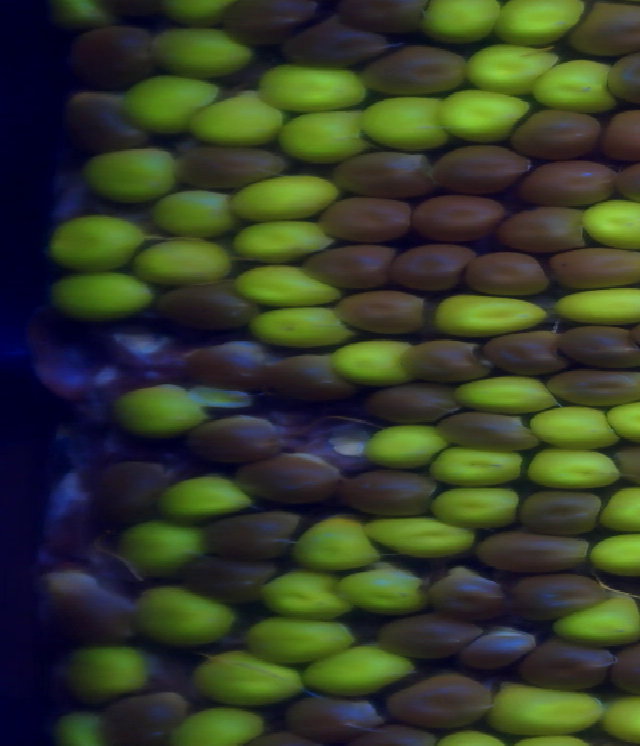fluorescent: (124, 585, 236, 646), (191, 647, 303, 704), (252, 61, 381, 110), (119, 74, 219, 136), (302, 639, 414, 694), (43, 216, 149, 274), (532, 53, 630, 115), (490, 681, 605, 733), (188, 85, 290, 143), (76, 151, 185, 204), (61, 646, 159, 704), (361, 513, 481, 560), (530, 400, 632, 454), (358, 94, 450, 152), (246, 617, 356, 664), (148, 27, 255, 75), (231, 173, 342, 219), (291, 521, 385, 574), (430, 294, 551, 335), (428, 439, 532, 486), (466, 43, 560, 95), (49, 275, 160, 319), (429, 482, 526, 532), (489, 1, 589, 49), (239, 306, 358, 346), (339, 566, 434, 616), (115, 383, 210, 433), (439, 91, 532, 142), (524, 445, 626, 491), (261, 567, 350, 619), (234, 264, 348, 304), (281, 110, 367, 163), (158, 474, 256, 519), (331, 341, 424, 387), (131, 240, 235, 281), (411, 1, 504, 46), (124, 522, 206, 572), (364, 423, 447, 471), (453, 376, 556, 414), (164, 709, 268, 746), (555, 602, 640, 646), (153, 194, 239, 237), (551, 283, 640, 324), (232, 221, 334, 253), (46, 709, 112, 746), (592, 531, 640, 576), (44, 1, 116, 31), (601, 691, 640, 742), (159, 1, 234, 27), (596, 487, 640, 531), (608, 399, 640, 446)
nonfluorescent: (34, 572, 150, 656), (385, 669, 498, 731), (62, 91, 158, 154), (224, 453, 348, 501), (154, 281, 267, 333), (510, 103, 613, 160), (284, 15, 393, 68), (317, 190, 418, 246), (93, 691, 192, 746), (507, 573, 613, 623), (429, 146, 528, 199), (69, 27, 156, 86), (401, 193, 503, 243), (523, 157, 623, 208), (263, 353, 360, 405), (478, 529, 592, 573), (333, 288, 433, 338), (363, 48, 467, 96), (427, 564, 516, 619), (290, 692, 387, 742), (301, 240, 399, 289), (338, 468, 440, 515), (96, 460, 166, 528), (203, 512, 304, 559), (523, 637, 609, 692), (184, 335, 273, 388), (495, 203, 589, 252), (378, 611, 474, 658), (176, 146, 283, 188), (567, 1, 640, 62), (188, 416, 283, 461), (338, 152, 436, 195), (436, 410, 533, 453), (185, 557, 278, 601), (387, 242, 473, 289), (551, 244, 640, 289), (472, 251, 559, 297), (519, 488, 603, 533), (459, 628, 535, 677), (405, 340, 487, 383), (228, 1, 315, 41), (370, 386, 462, 423), (337, 1, 431, 37), (483, 332, 562, 374), (544, 369, 640, 403), (561, 328, 640, 369), (609, 48, 640, 103), (609, 643, 640, 695), (608, 111, 640, 159)
